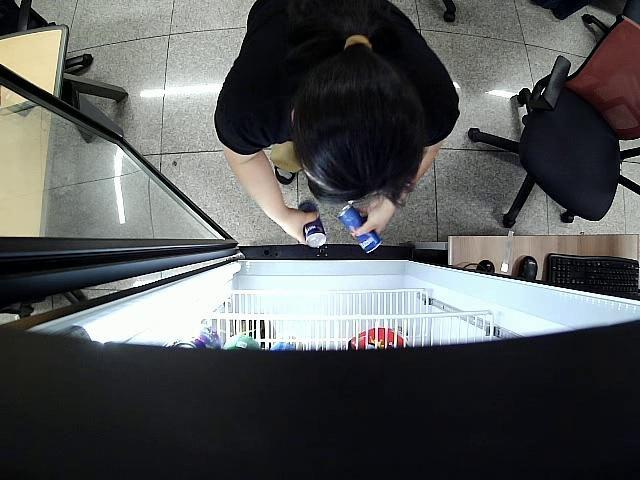16_hot6: (338, 206, 383, 256), (298, 200, 326, 248)
